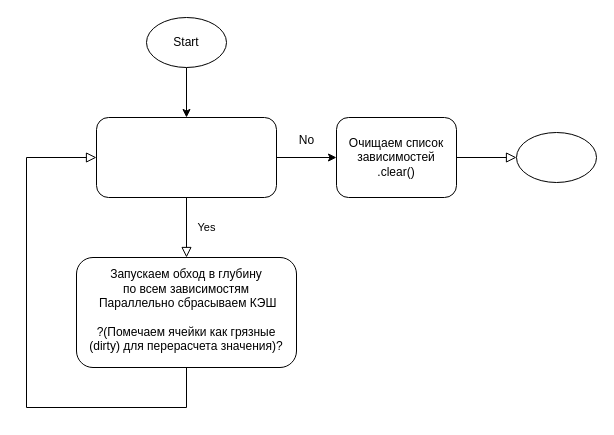
Some shapes in this 614 by 435 pixel diagram are drawn without their labels. Each missing label, with the box of its shape:
End: (516, 132, 596, 182)
Проверяем наличие зависимостей If !dependent_.empty(): (96, 116, 276, 198)
